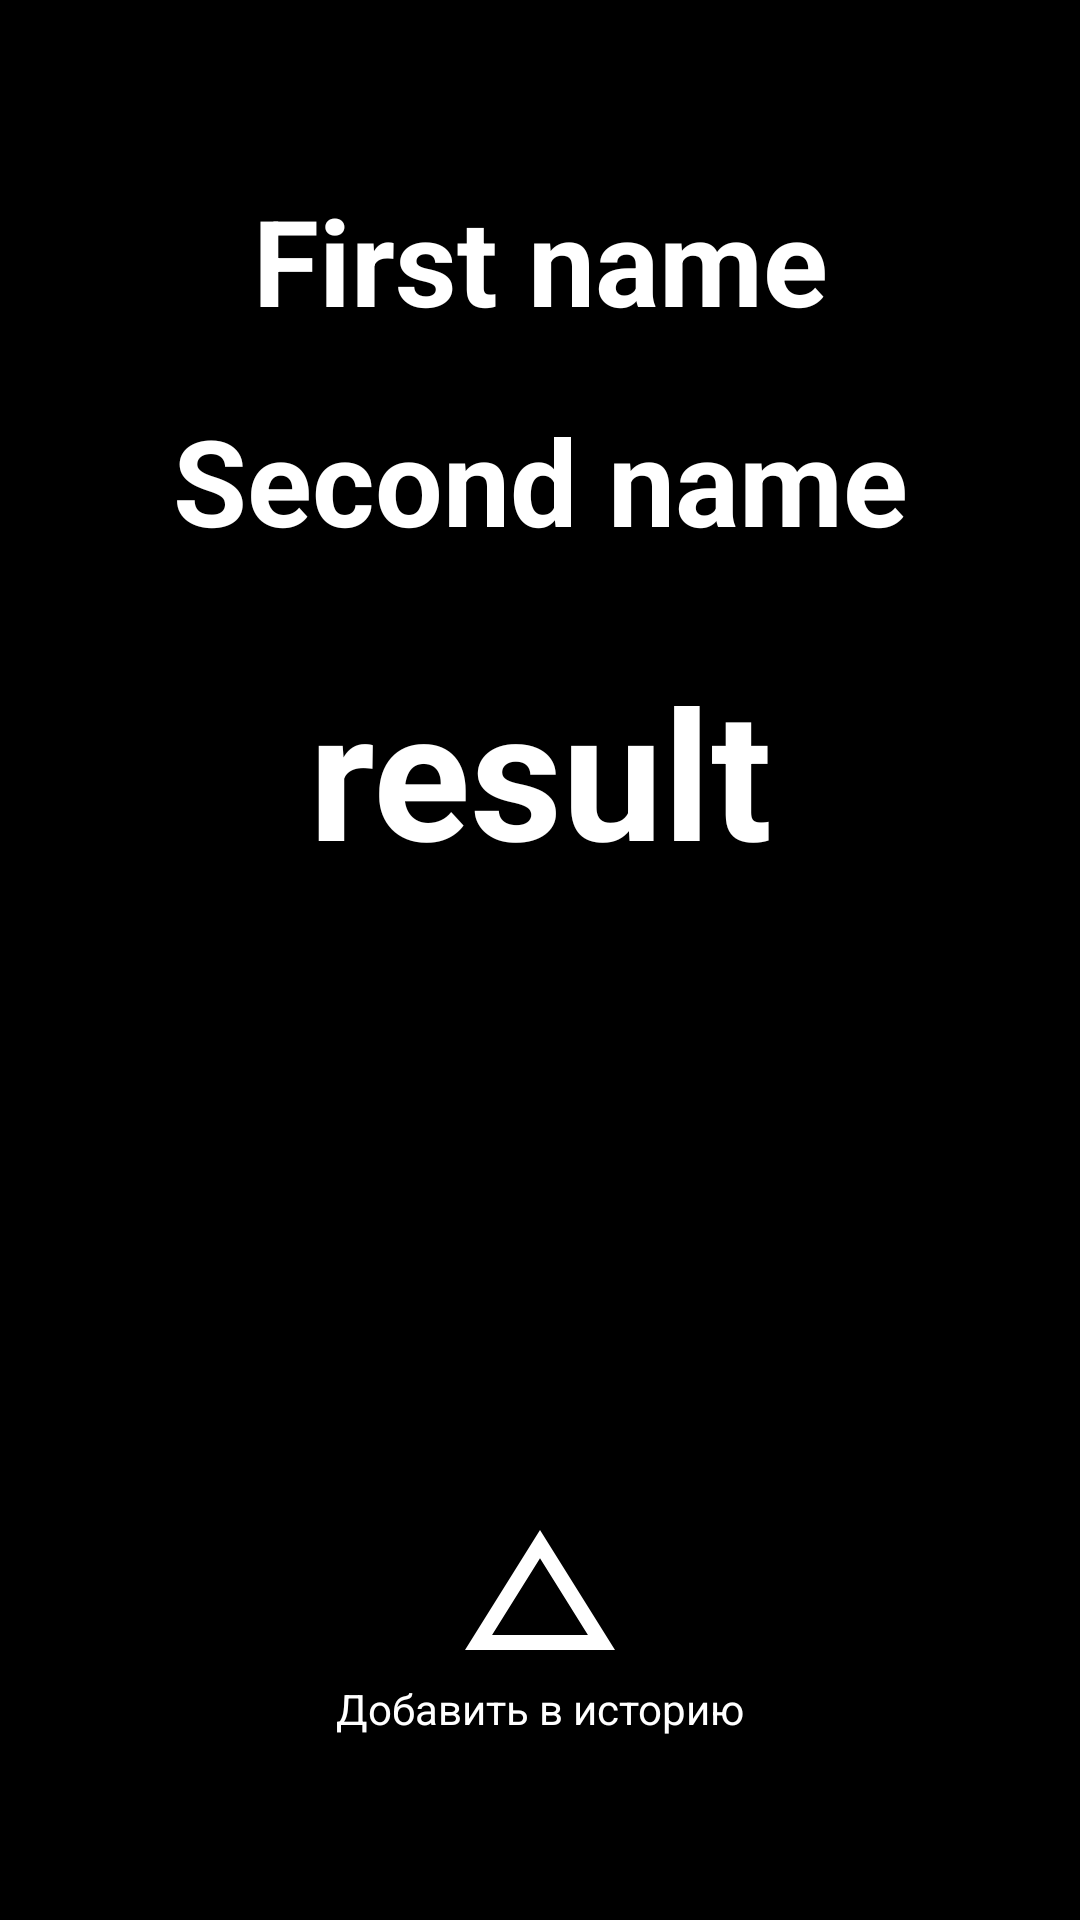

Where icons sit on this 1080px×1920px app screen, as (x1,y1,x2,y2):
change history: (465,1530,615,1650)
